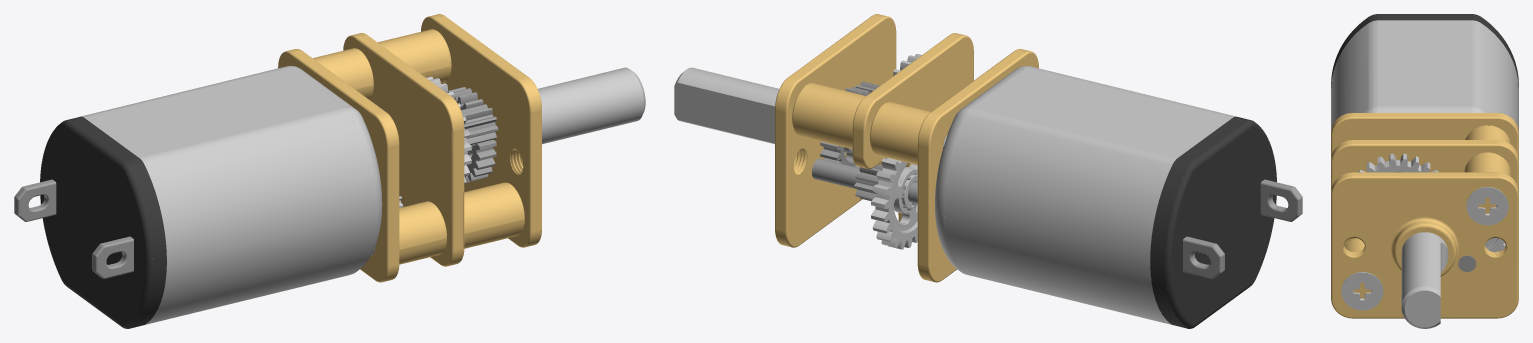
Rendered from motor.glb.
The picture shows the model from 3 angles, left to right: view 1: azimuth 30°, elevation 25°; view 2: azimuth 150°, elevation 25°; view 3: azimuth 270°, elevation 25°; orthographic projection. The views are drawn at different scales.
Visible parts, largest first — view 1: N20 Mini Micro Metall Gear Motor DC 3-6-12V v1 without enco., gear3, gear1, gear2; view 2: N20 Mini Micro Metall Gear Motor DC 3-6-12V v1 without enco., gear1, gear3, gear2; view 3: N20 Mini Micro Metall Gear Motor DC 3-6-12V v1 without enco., gear3, gear1.
Part boxes in pixels (x1,y1,x2,y2): N20 Mini Micro Metall Gear Motor DC 3-6-12V v1 without enco.: [40, 14, 541, 328]; gear3: [538, 67, 645, 144]; gear1: [399, 76, 498, 207]; gear2: [14, 179, 152, 278]; N20 Mini Micro Metall Gear Motor DC 3-6-12V v1 without enco.: [775, 14, 1276, 328]; gear1: [812, 54, 921, 249]; gear3: [674, 67, 779, 144]; gear2: [1164, 179, 1302, 278]; N20 Mini Micro Metall Gear Motor DC 3-6-12V v1 without enco.: [1331, 14, 1518, 318]; gear3: [1401, 232, 1448, 328]; gear1: [1358, 153, 1505, 258].
Bounding box in the file's own units: 123 × 33.79 × 40.53.
